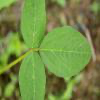Soyabean leaf: (39, 24, 93, 80), (18, 50, 47, 99), (20, 0, 48, 50)
